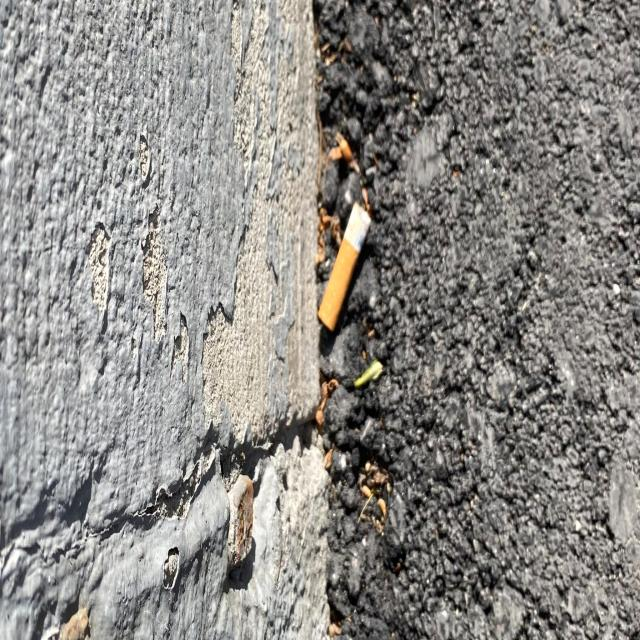other waste: (316, 199, 372, 333)
